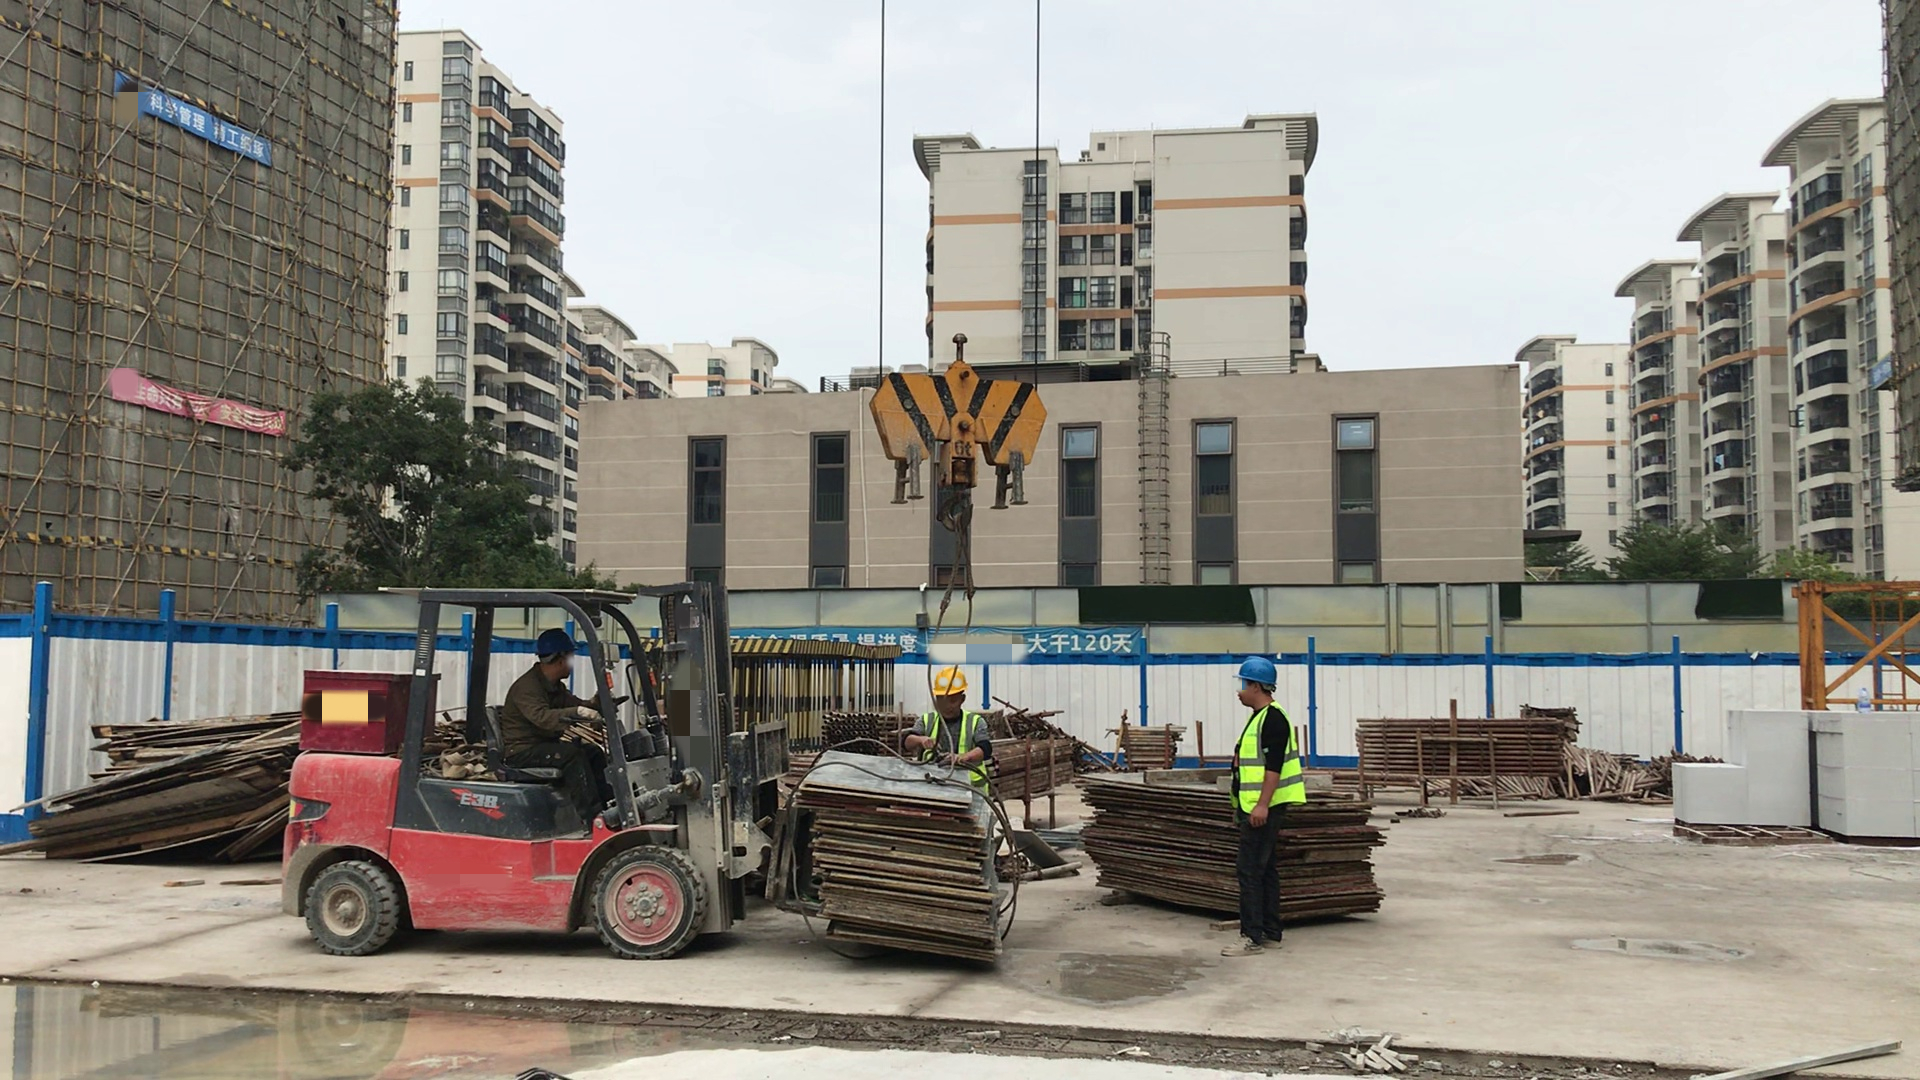board: (792, 748, 1019, 971), (22, 705, 288, 875), (1077, 765, 1241, 935), (1281, 787, 1399, 934)
brick: (1675, 705, 1816, 832), (1808, 713, 1920, 836)
helmet: (530, 625, 580, 666), (1238, 653, 1282, 694), (930, 670, 970, 700)
hook: (859, 328, 1054, 530)
person: (1216, 656, 1318, 960), (502, 625, 606, 831), (909, 667, 999, 767)
scaffold: (1351, 714, 1566, 782), (1103, 719, 1188, 768)
slogan: (133, 83, 270, 171), (128, 371, 288, 434), (951, 622, 1141, 663), (1870, 352, 1895, 394)
vest: (1227, 706, 1315, 814), (919, 709, 988, 769)
